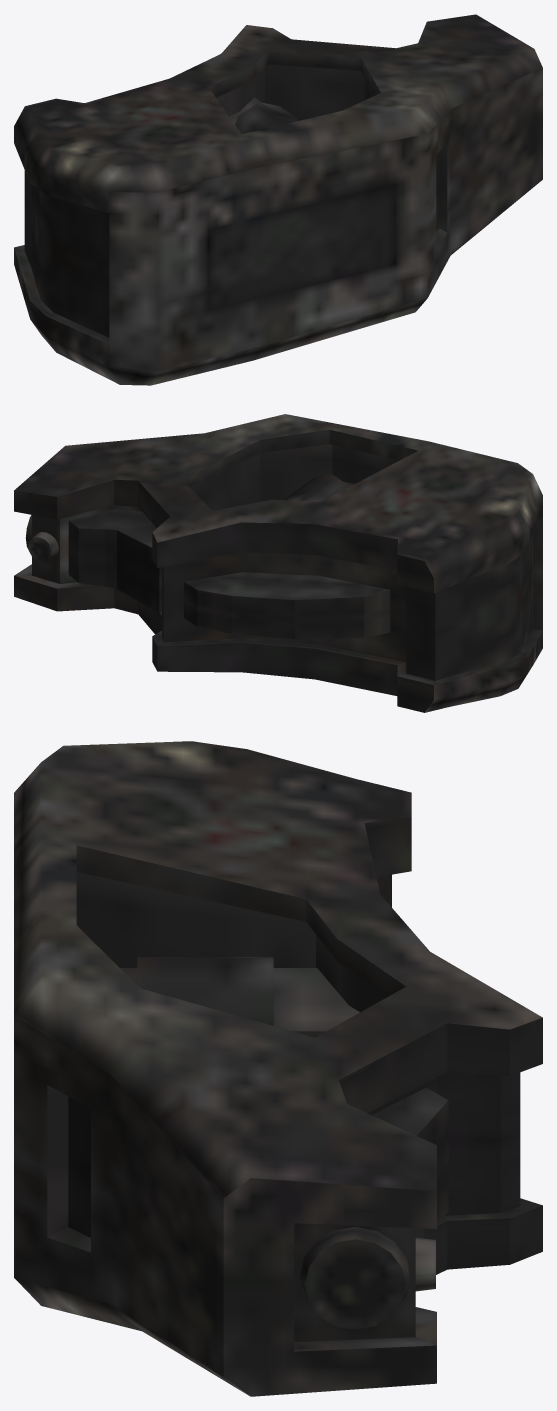
File: veh_t6_drone_quad_rotor_dead_piece1_LOD0.obj
The picture shows the model from 3 angles, top to bottom: view 1: azimuth 30°, elevation 25°; view 2: azimuth 150°, elevation 25°; view 3: azimuth 270°, elevation 25°; orthographic projection. The views are drawn at different scales.
Visible parts, largest first — view 1: mtl_t6_veh_drone_quad_rotor_body_dest; view 2: mtl_t6_veh_drone_quad_rotor_body_dest; view 3: mtl_t6_veh_drone_quad_rotor_body_dest.
Part boxes in pixels (x1,y1,x2,y2): mtl_t6_veh_drone_quad_rotor_body_dest: [14, 14, 542, 385]; mtl_t6_veh_drone_quad_rotor_body_dest: [14, 414, 542, 712]; mtl_t6_veh_drone_quad_rotor_body_dest: [14, 741, 542, 1396].
Bounding box in the file's own units: 32.35 × 13.44 × 18.32.
